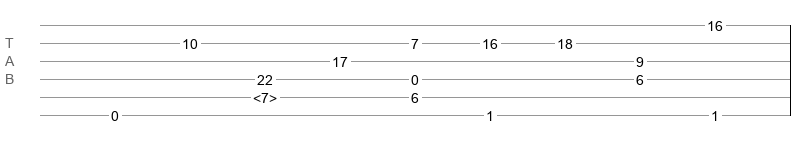0: (111, 108, 119, 118), (411, 72, 419, 82)
1: (486, 108, 494, 118), (711, 108, 719, 118)
10: (182, 36, 198, 46)
16: (482, 36, 498, 46), (707, 18, 723, 28)
17: (332, 54, 348, 64)
18: (557, 36, 573, 46)
22: (257, 72, 273, 82)
6: (411, 90, 419, 100), (636, 72, 644, 82)
7: (411, 36, 419, 46)
9: (636, 54, 644, 64)
harmonic: (253, 90, 277, 100)
